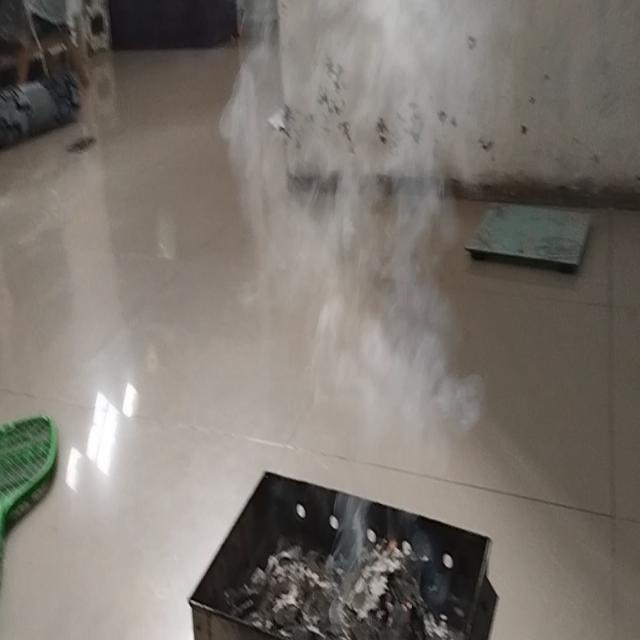smoke: (218, 0, 533, 255), (290, 272, 518, 575)
